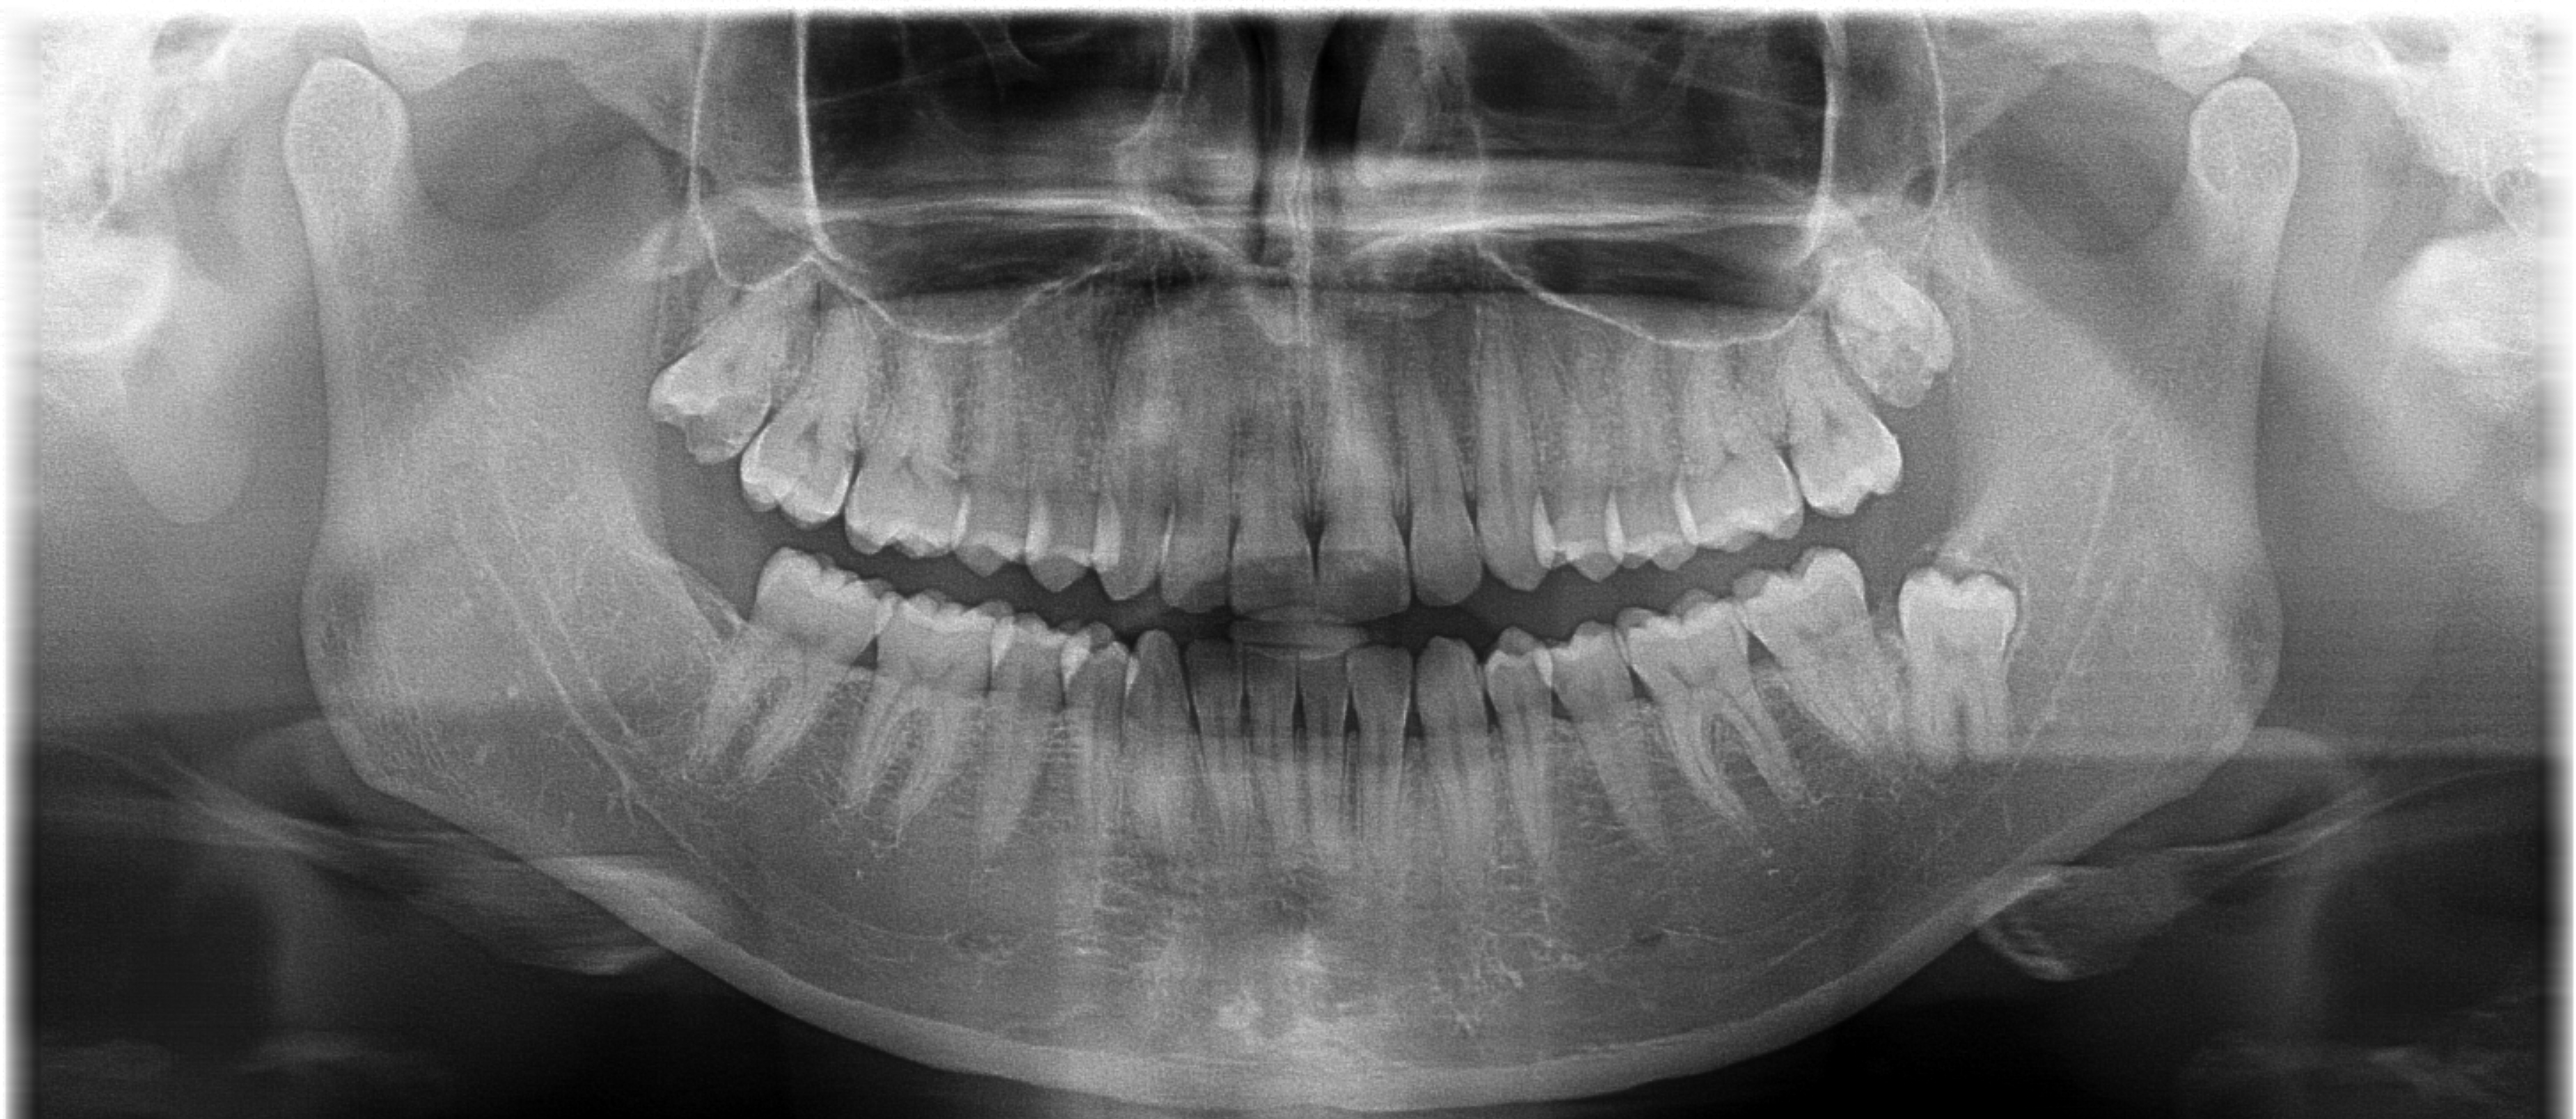apinamiento: (1280, 633, 1408, 725)
cordal: (1873, 534, 2060, 777), (1802, 191, 1989, 432), (621, 251, 808, 493)
